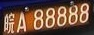A: (17, 13, 26, 33)
